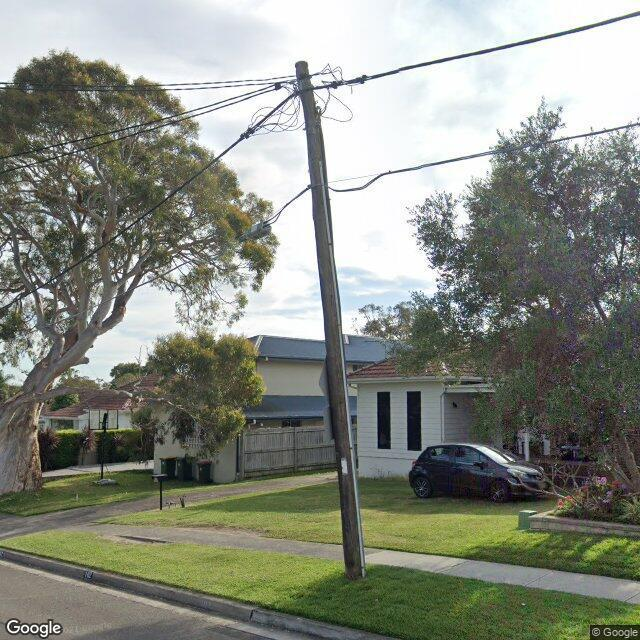timber-pole: (294, 59, 366, 578)
